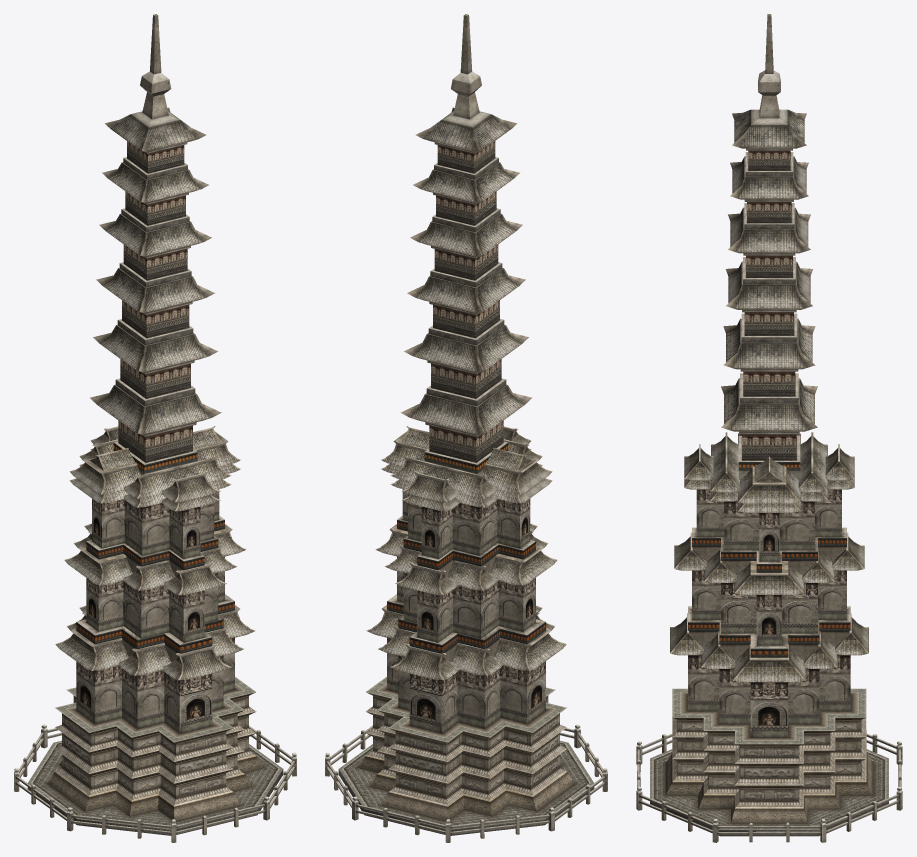
Rendered from milgyo_tower01.fbx.
3 renders of one model, left to right at view 1: azimuth 30°, elevation 25°; view 2: azimuth 150°, elevation 25°; view 3: azimuth 270°, elevation 25°, orthographic.
Parts seen in each view (by area): view 1: milgyo_tower01; view 2: milgyo_tower01; view 3: milgyo_tower01.
Part boxes in pixels (x1,y1,x2,y2): milgyo_tower01: (14, 14, 296, 842); milgyo_tower01: (325, 14, 607, 842); milgyo_tower01: (636, 14, 902, 842).
Bounding box in the file's own units: 15.25 × 48.79 × 15.25.
